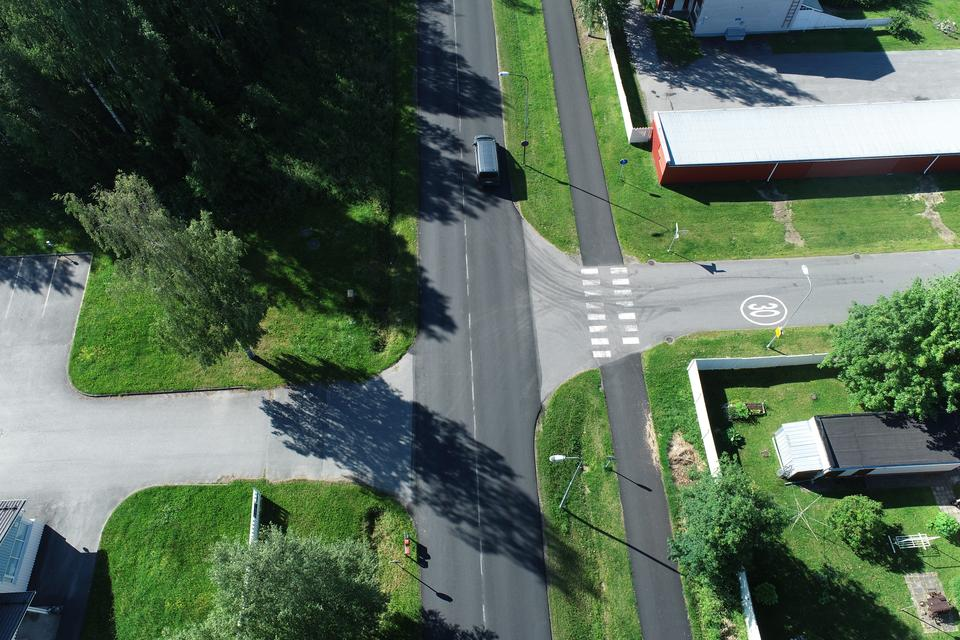intersection: (326, 226, 726, 500)
